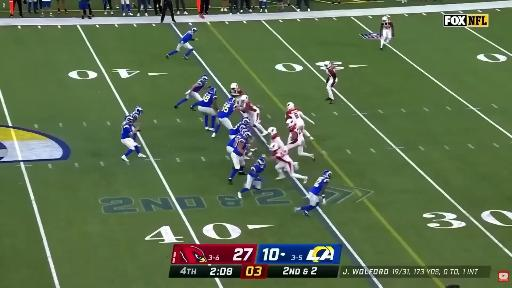Helmet: (134, 106, 143, 115), (124, 115, 134, 123), (270, 143, 279, 151), (286, 102, 294, 110), (323, 170, 331, 178), (287, 119, 294, 127), (268, 127, 276, 134), (257, 158, 265, 165), (209, 87, 216, 94), (239, 124, 246, 131), (243, 131, 251, 137), (242, 118, 250, 124), (241, 95, 248, 101), (201, 75, 208, 81), (231, 83, 238, 89), (324, 61, 331, 67), (228, 98, 235, 103), (242, 129, 249, 134), (382, 16, 388, 21), (191, 27, 196, 33)
Jersey: (227, 133, 246, 156), (310, 177, 329, 195), (218, 98, 235, 118), (288, 125, 303, 143), (199, 92, 217, 107), (248, 164, 266, 178), (121, 122, 134, 139), (230, 122, 246, 135), (192, 79, 206, 92), (271, 133, 284, 147), (286, 108, 301, 120), (272, 147, 287, 158), (181, 32, 194, 43), (245, 102, 258, 113), (326, 67, 336, 79), (231, 89, 243, 98), (382, 20, 392, 29), (131, 112, 138, 121)
Player: (295, 171, 331, 216), (270, 144, 307, 183), (226, 130, 251, 185), (287, 119, 315, 161), (175, 75, 208, 110), (121, 116, 145, 161), (238, 158, 265, 198), (241, 95, 267, 135), (212, 97, 238, 137), (286, 103, 314, 140), (166, 27, 197, 59), (198, 88, 218, 131), (324, 61, 337, 103), (380, 16, 394, 50), (229, 118, 249, 139), (268, 128, 287, 150), (268, 127, 284, 147), (231, 83, 243, 101), (131, 106, 142, 123), (134, 106, 143, 115)
